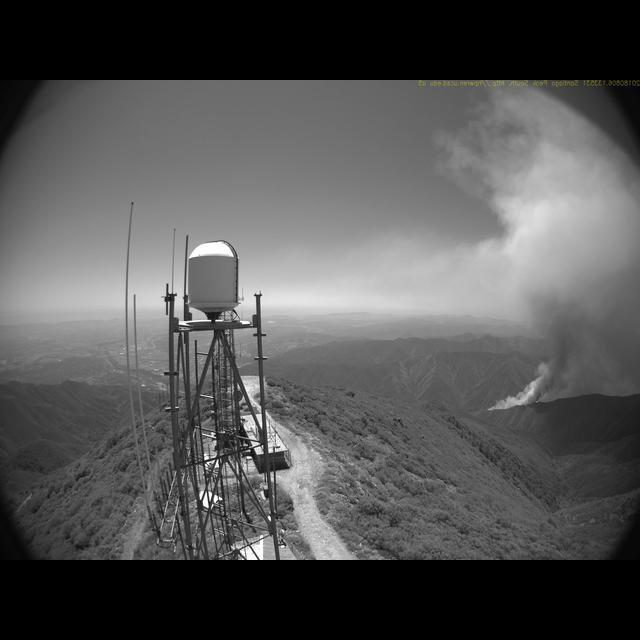Smoke: (483, 150, 639, 413)
